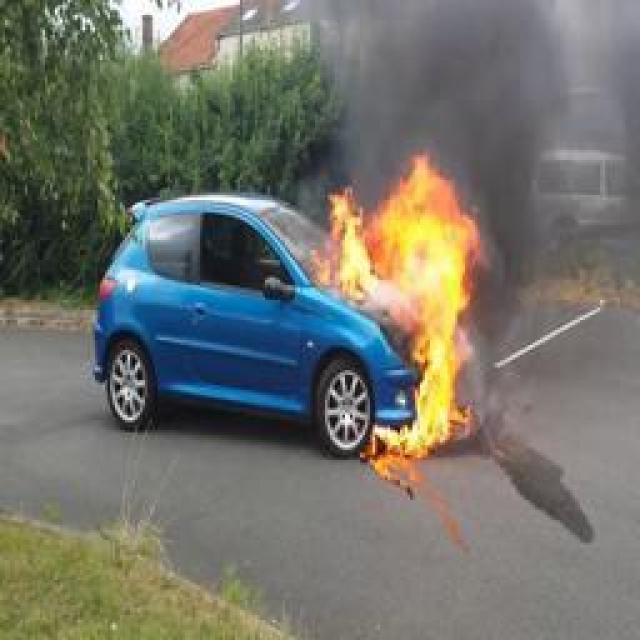Fire: (311, 155, 491, 455)
